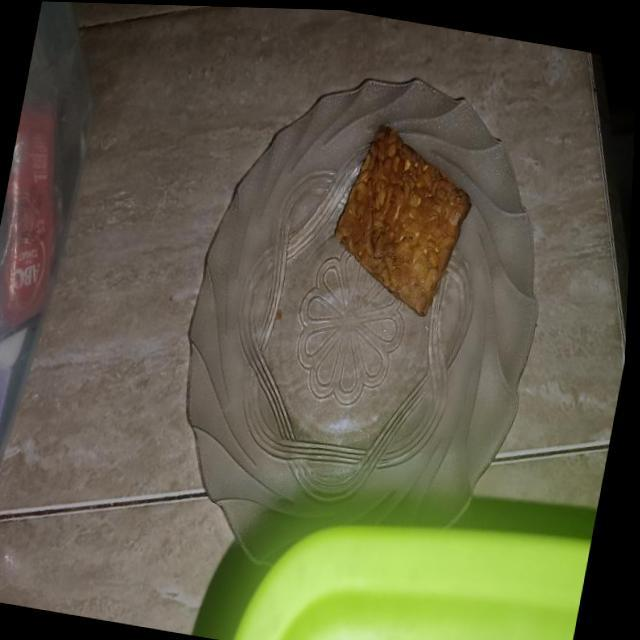tempe_goreng: (336, 128, 470, 316)
